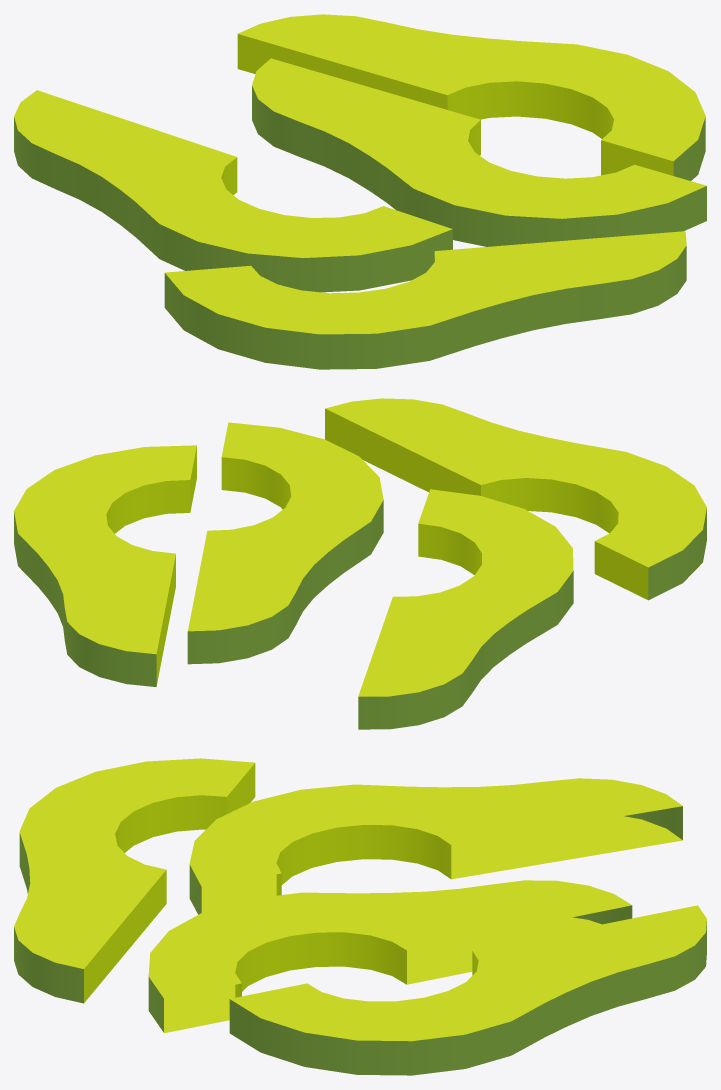
Rendered from avacados.glb.
The picture shows the model from 3 angles, top to bottom: view 1: azimuth 30°, elevation 25°; view 2: azimuth 150°, elevation 25°; view 3: azimuth 270°, elevation 25°; orthographic projection. The views are drawn at different scales.
Parts seen in each view (by area): view 1: Avocado_Slice; view 2: Avocado_Slice; view 3: Avocado_Slice.
Part boxes in pixels (<box>): Avocado_Slice: <box>14,14,706,369</box>; Avocado_Slice: <box>14,398,706,729</box>; Avocado_Slice: <box>14,758,706,1075</box>.
Size of the model in its own units: 0.1765 by 0.01 by 0.1828.
1 material, 1 textured.
